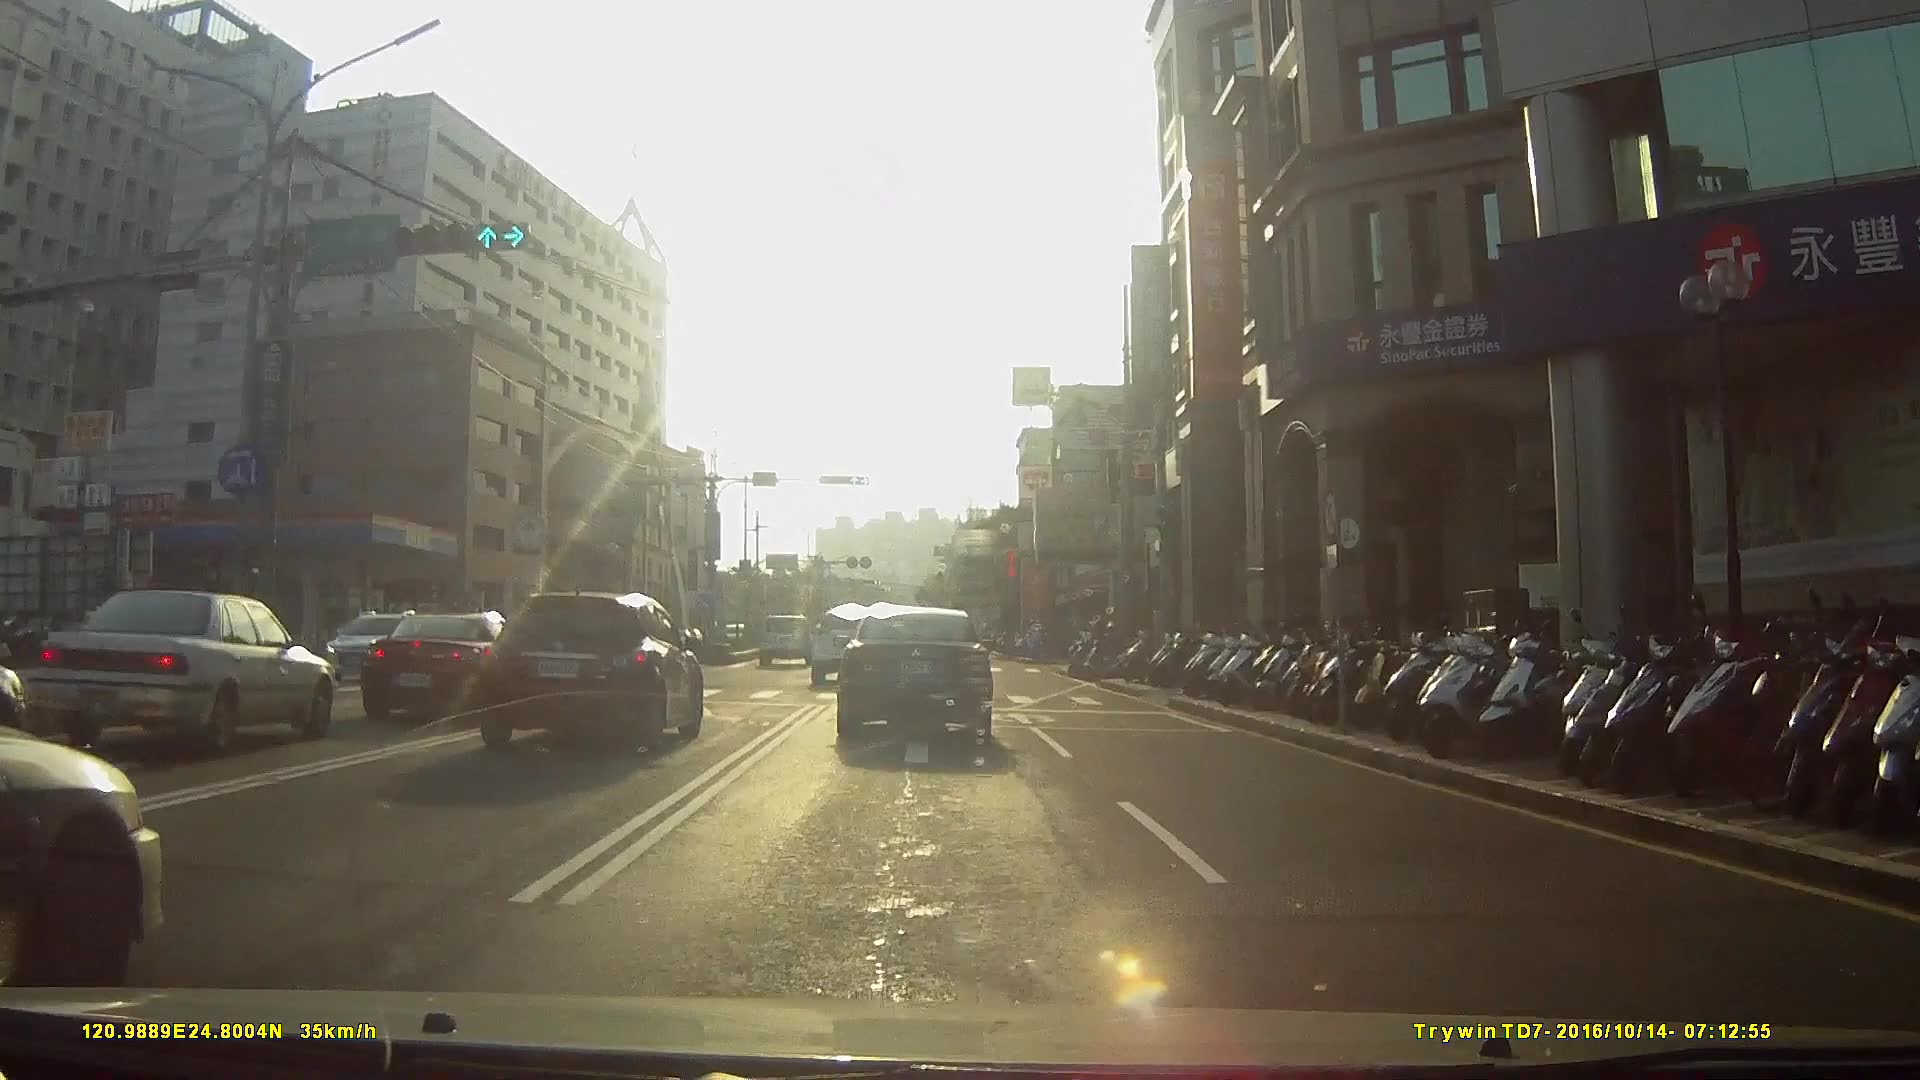rider: (1081, 621, 1146, 679)
vehicle: (41, 583, 343, 755), (464, 581, 716, 758), (345, 604, 554, 732), (833, 604, 1004, 746), (312, 607, 444, 682), (807, 605, 886, 689), (759, 611, 818, 666)
